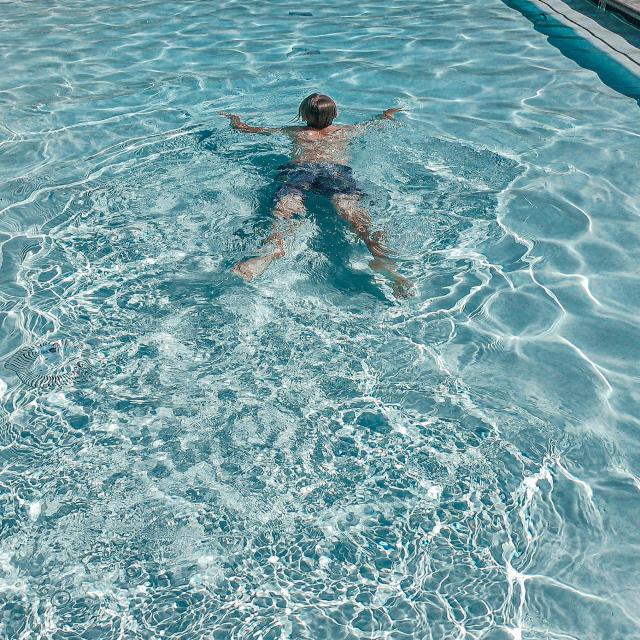lie: (252, 85, 393, 308)
